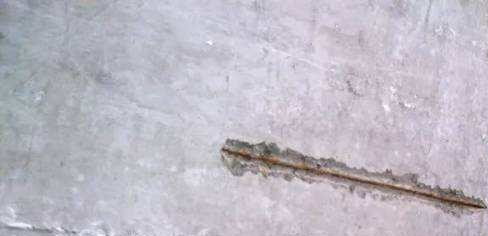Exposed reinforcement: (220, 147, 485, 210)
Spalling: (219, 137, 488, 218)
